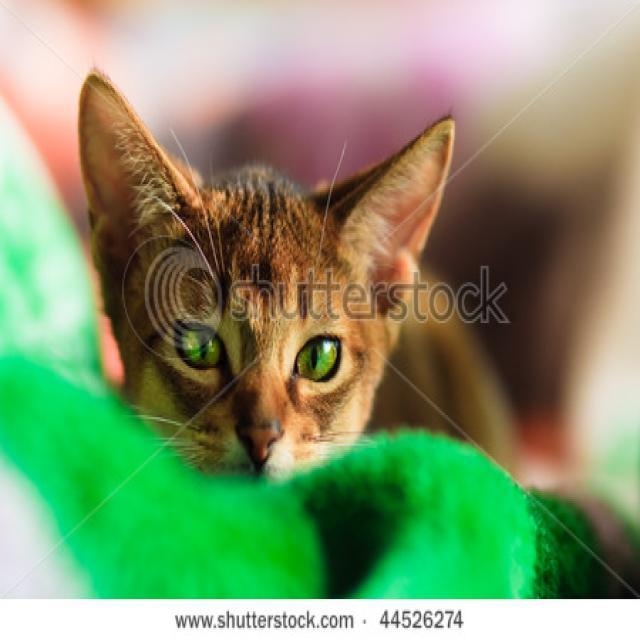Abyssinian: (76, 72, 453, 479)
